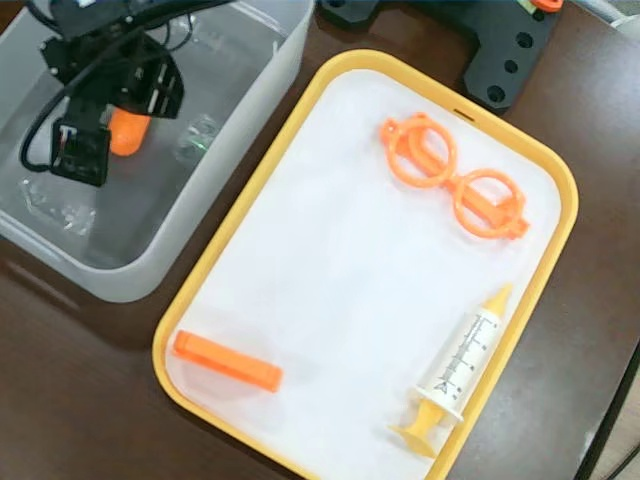syringe: (387, 274, 514, 458)
